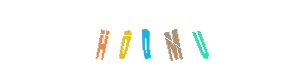0: (92, 0, 172, 80)
H: (75, 0, 155, 80)
M: (132, 0, 212, 80)
Q: (112, 0, 192, 80)
U: (133, 0, 213, 80)
